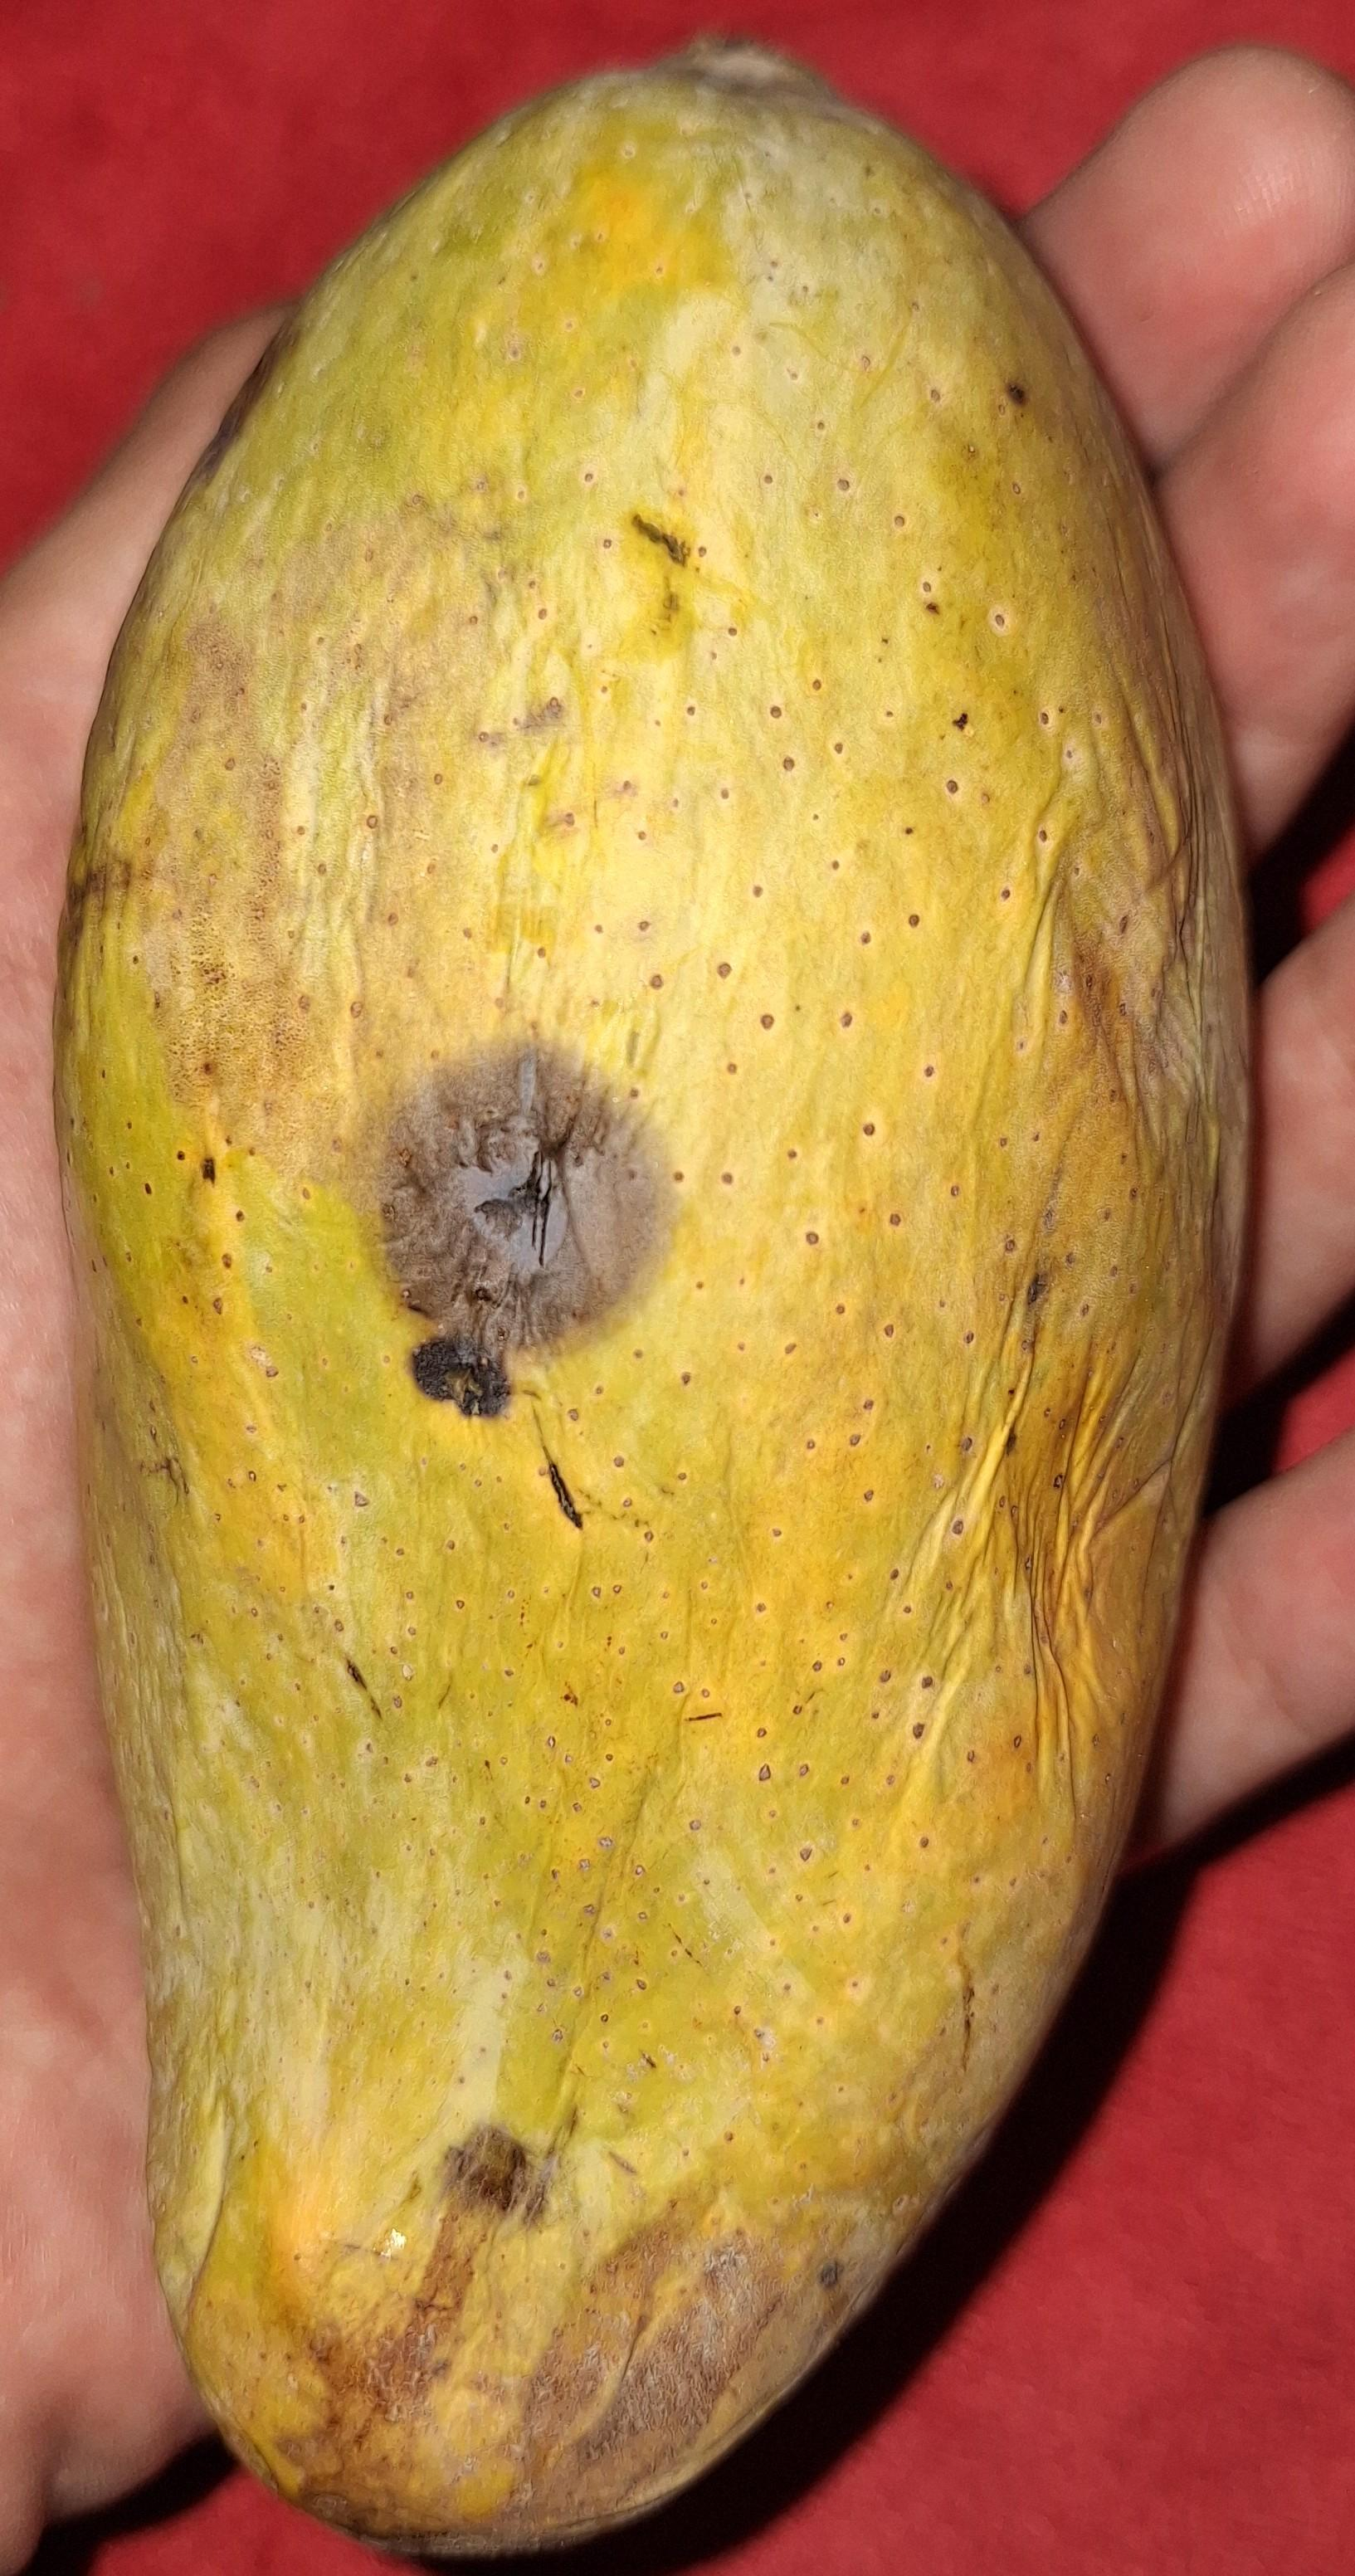mango: (50, 36, 1255, 2560)
